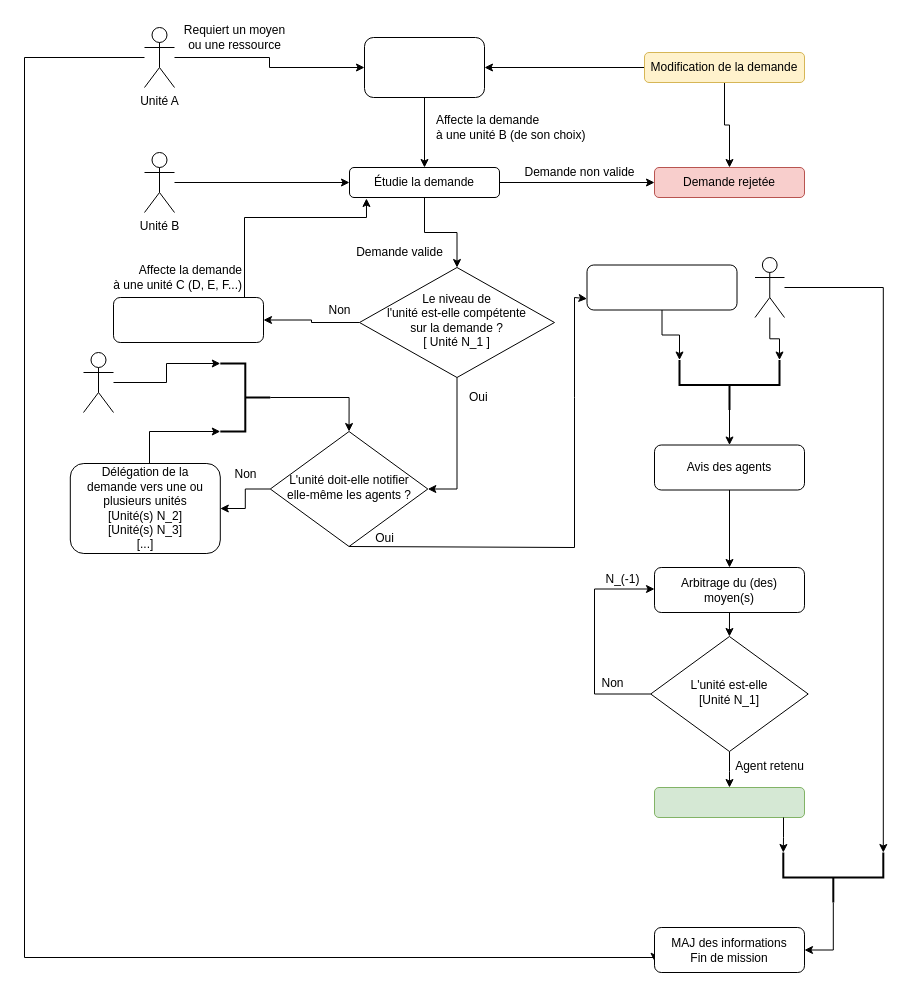
Image size: 909x990. Some labels were removed from this diagram. The centre of each missing label's shape, as x and y in pixels:
"Agent" belongs at point 769,287.
"Création d'une demande sur SI OPS" belongs at point 424,67.
"Demande terminée" belongs at point 729,802.
"Escalade de la demande" belongs at point 188,319.
"Notification des agents sur leur Néo" belongs at point 661,287.
"Unité N_X" belongs at point 98,382.
